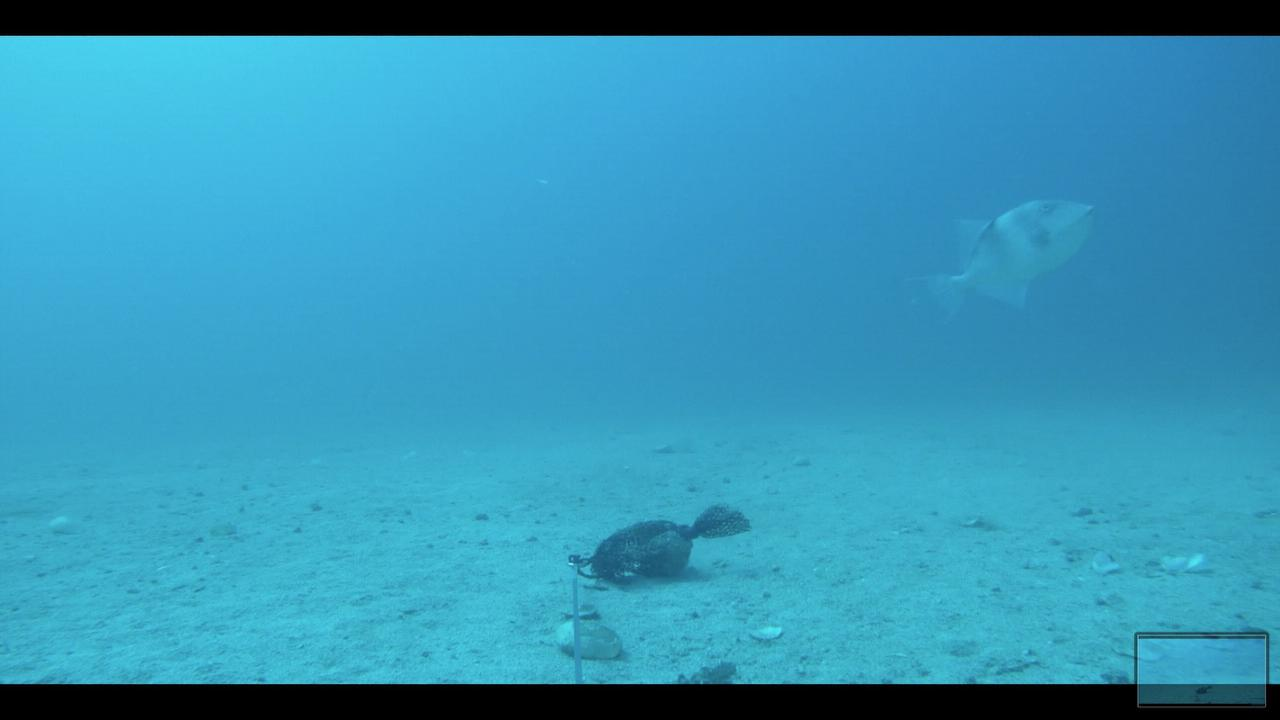balistes: (903, 195, 1097, 315)
